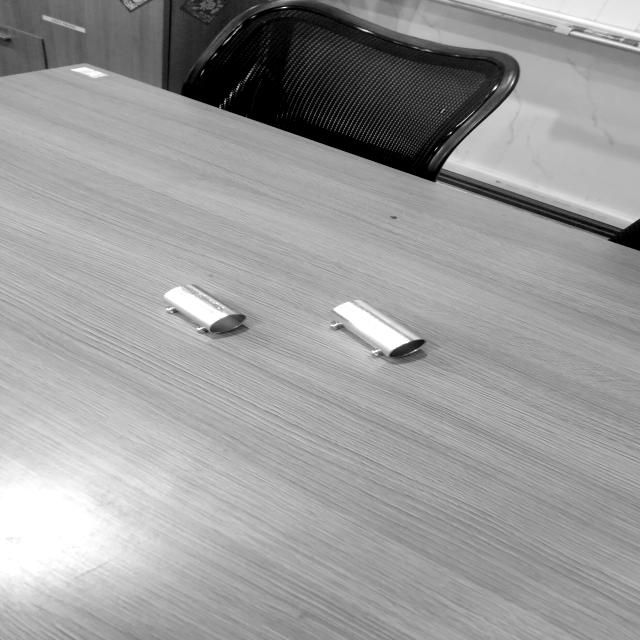Co_Lon: (323, 289, 427, 375)
Co_Nho: (158, 274, 247, 349)
